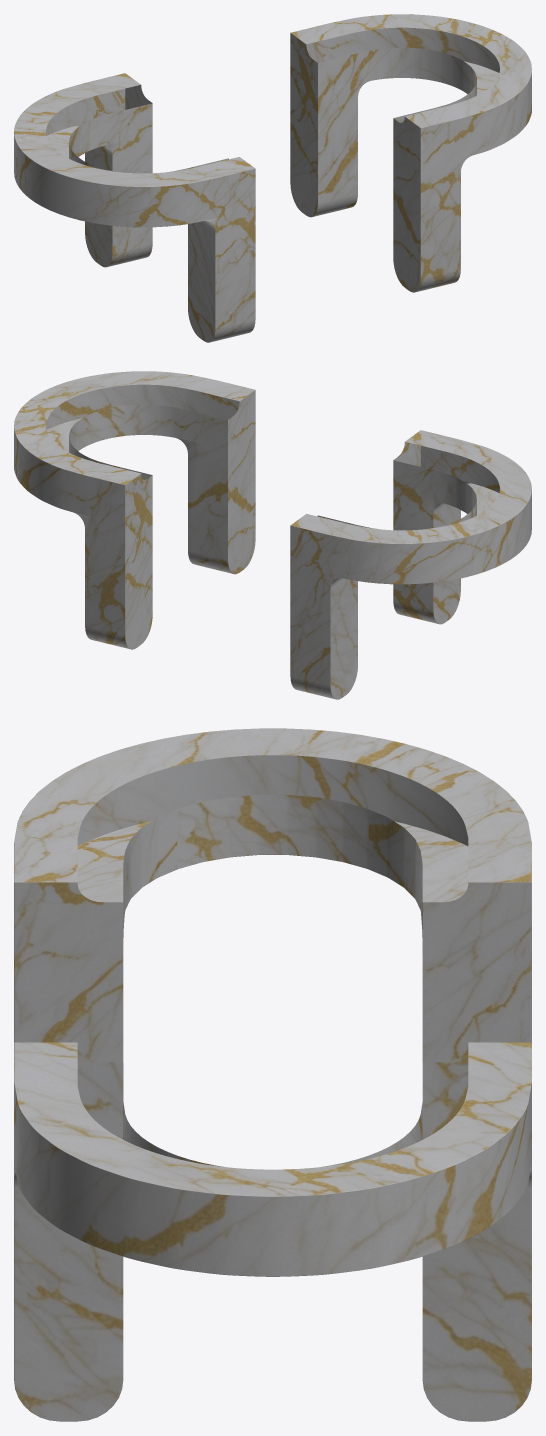
The model's file is table__gold_marble.obj.
3 renders of one model, top to bottom at view 1: azimuth 30°, elevation 25°; view 2: azimuth 150°, elevation 25°; view 3: azimuth 270°, elevation 25°, orthographic. The views are drawn at different scales.
Parts seen in each view (by area): view 1: Export_Marble.001; view 2: Export_Marble.001; view 3: Export_Marble.001.
Boxes of the visible parts, x1,y1,x2,y2 form: Export_Marble.001: (14, 14, 531, 342); Export_Marble.001: (14, 371, 531, 699); Export_Marble.001: (14, 728, 531, 1421).
Bounding box in the file's own units: 22.36 × 7.58 × 10.45.
1 material, 1 textured.
